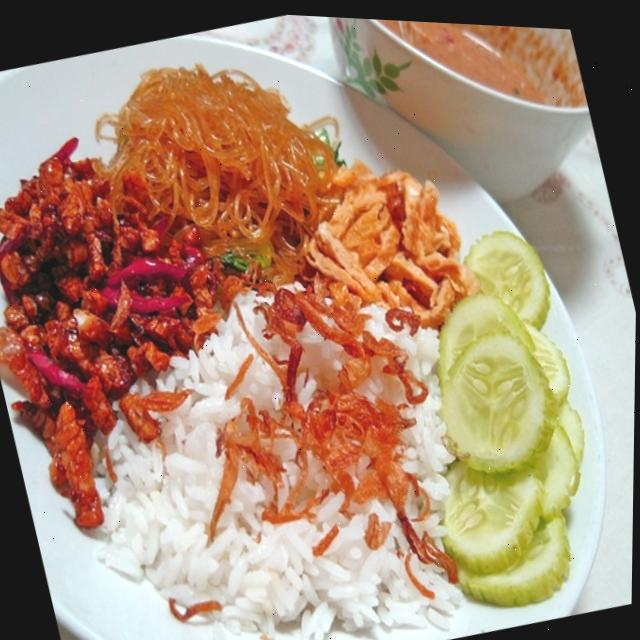米饭主食: (84, 252, 499, 640)
